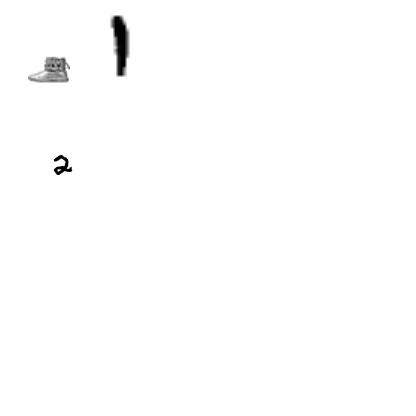1: (78, 1, 162, 85)
2: (48, 151, 76, 179)
Ankle_boot: (28, 48, 70, 90)
